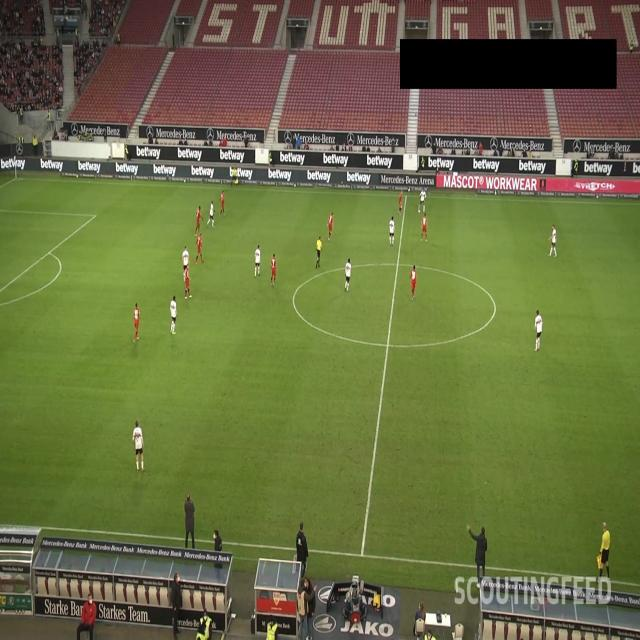f_player: (598, 522, 613, 579), (182, 246, 194, 300), (132, 424, 144, 475), (132, 304, 142, 342), (548, 225, 559, 257), (169, 298, 178, 333), (536, 313, 544, 352), (409, 265, 418, 299), (343, 260, 352, 292), (254, 246, 263, 278), (314, 235, 322, 268), (195, 208, 204, 235), (387, 217, 395, 246), (270, 255, 277, 286), (328, 214, 336, 240), (207, 201, 215, 227), (398, 190, 407, 213), (220, 191, 227, 216)
